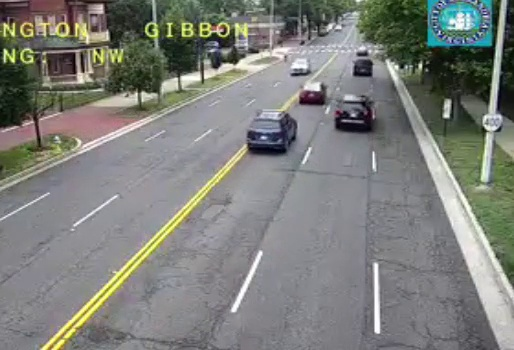car: (247, 112, 297, 149), (335, 96, 374, 128), (299, 84, 325, 103), (353, 59, 373, 76)
